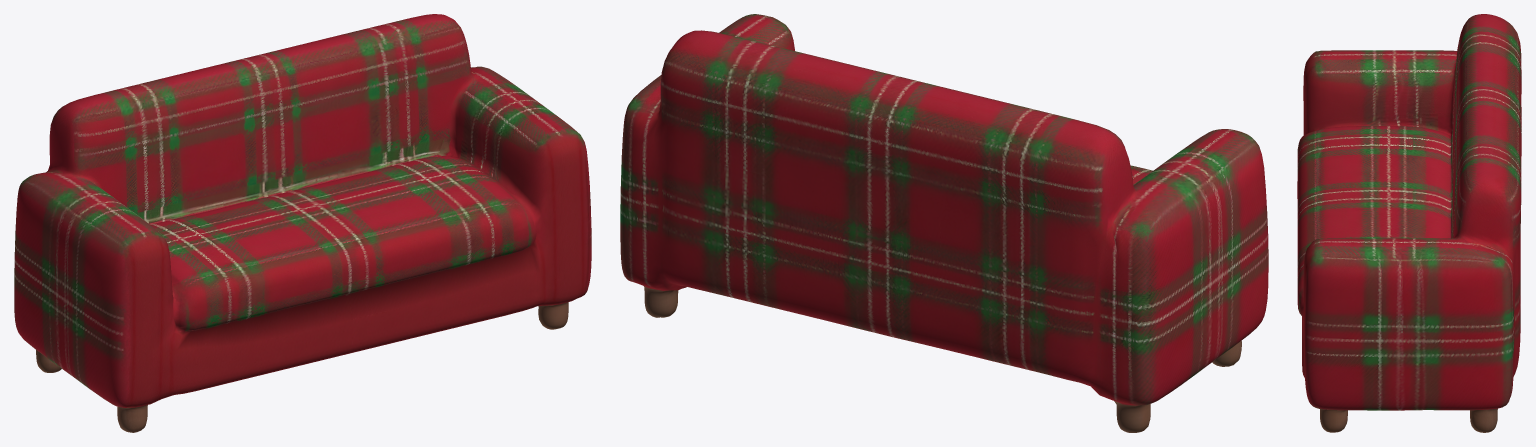
Rendered from Red_plaid_loveseat.glb.
The picture shows the model from 3 angles, left to right: view 1: azimuth 30°, elevation 25°; view 2: azimuth 150°, elevation 25°; view 3: azimuth 270°, elevation 25°; orthographic projection. The views are drawn at different scales.
Size of the model in its own units: 1.91 by 0.9856 by 0.8316.
Materials: 1 (1 with a texture image).
